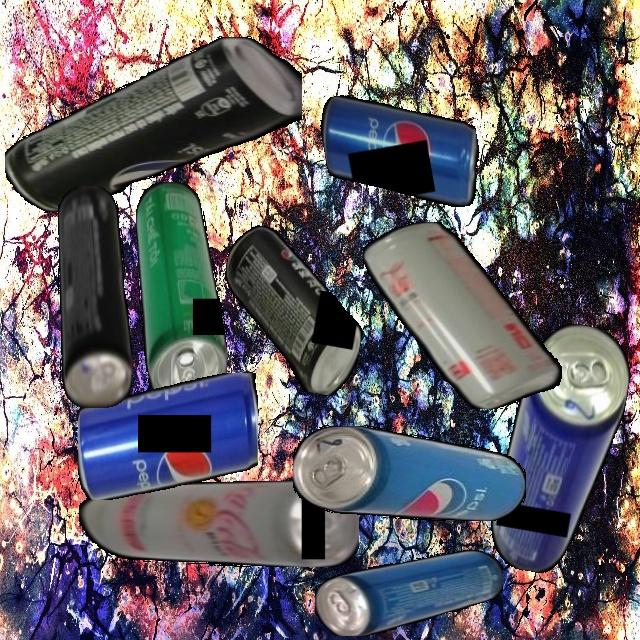debris: (5, 35, 302, 213), (485, 316, 637, 582), (363, 221, 562, 409), (208, 222, 377, 399), (316, 74, 488, 228), (78, 481, 359, 567), (77, 372, 258, 500), (293, 424, 526, 521), (135, 181, 227, 410), (57, 185, 132, 408), (315, 549, 503, 636)
